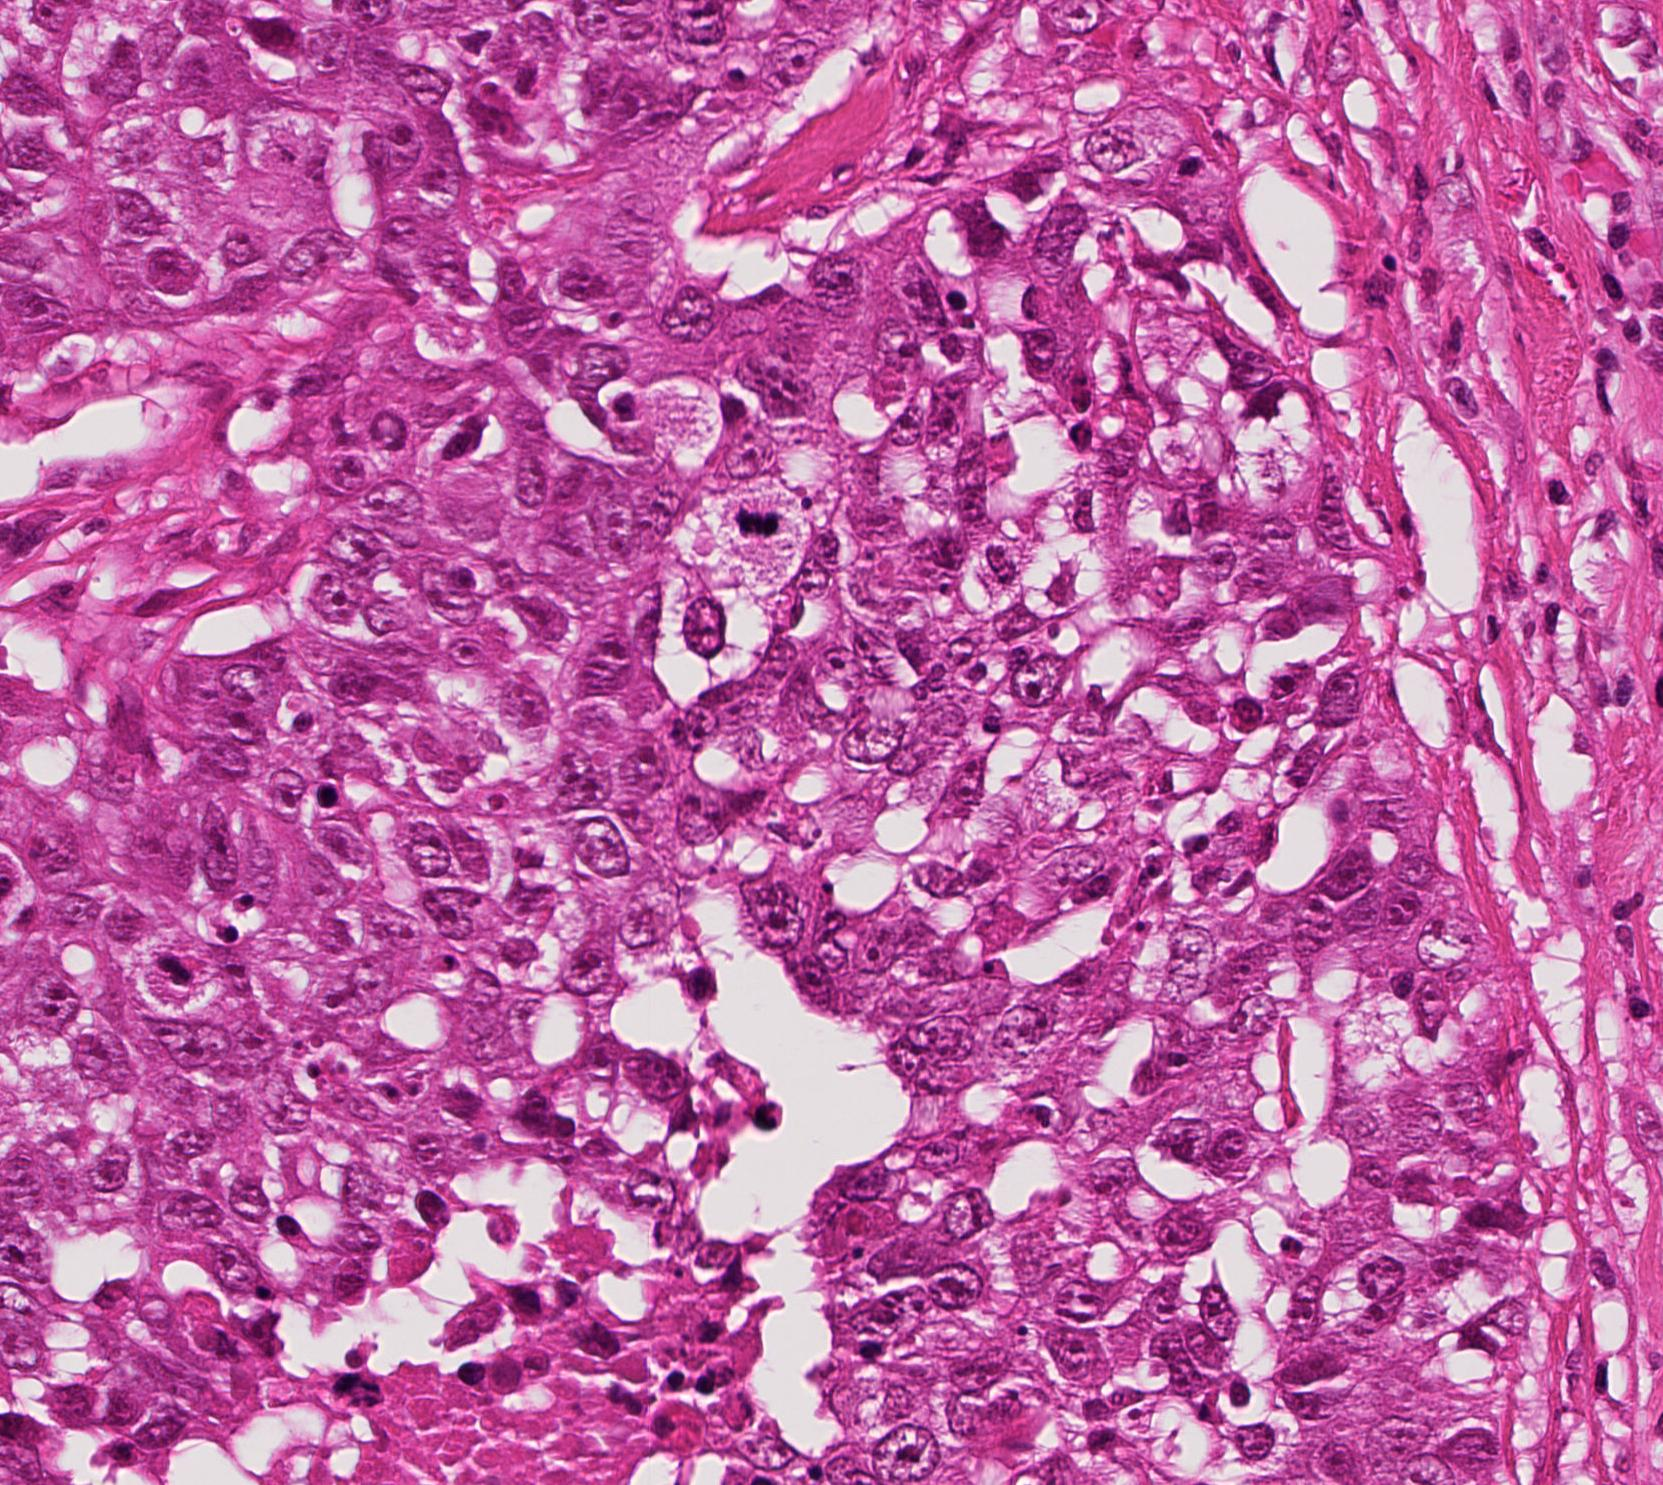mitosis: (734, 489, 794, 549), (142, 936, 202, 996)
